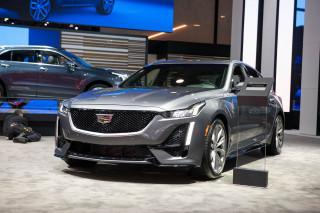cadillac: (93, 111, 114, 126)
